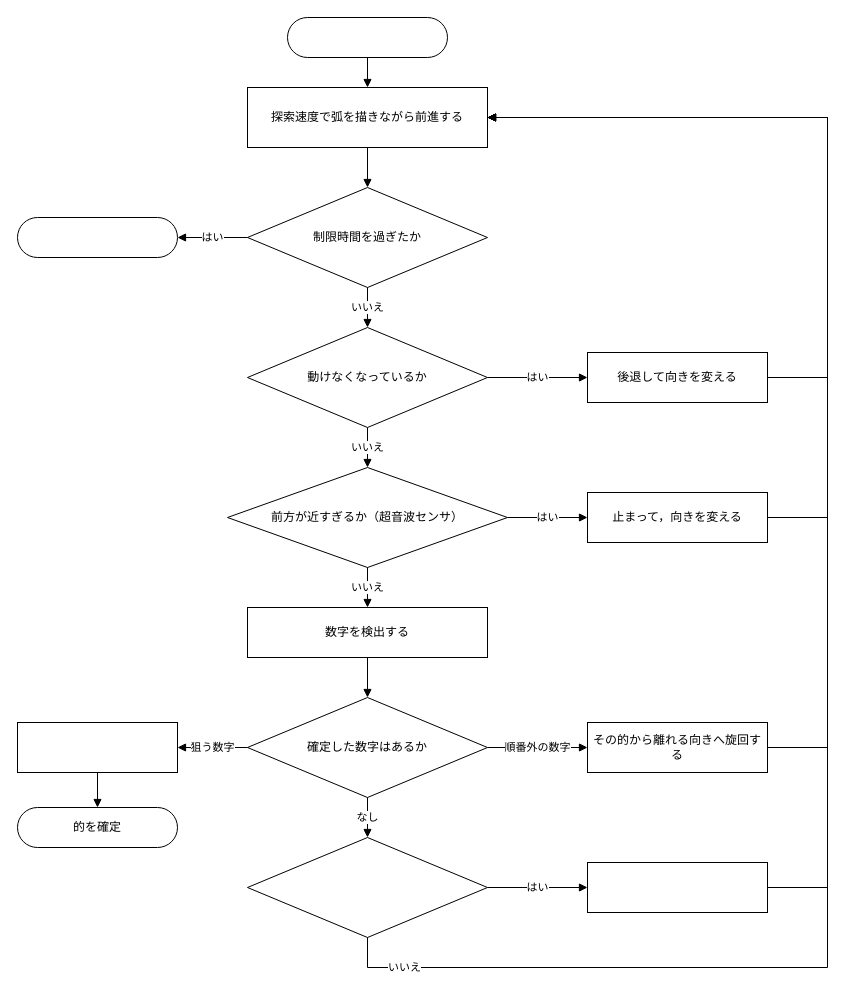
This 853x993 diagram has some shape labels left out. The shapes that lost their labels are listed below. From the top down, each one's centre as x and y in pixels, then its label:
point 367,37: 探索の開始
point 97,237: 時間切れ
point 97,747: 止まる
point 367,887: 長く同じ方向に進んだか
point 677,887: 曲がる向きを変える
